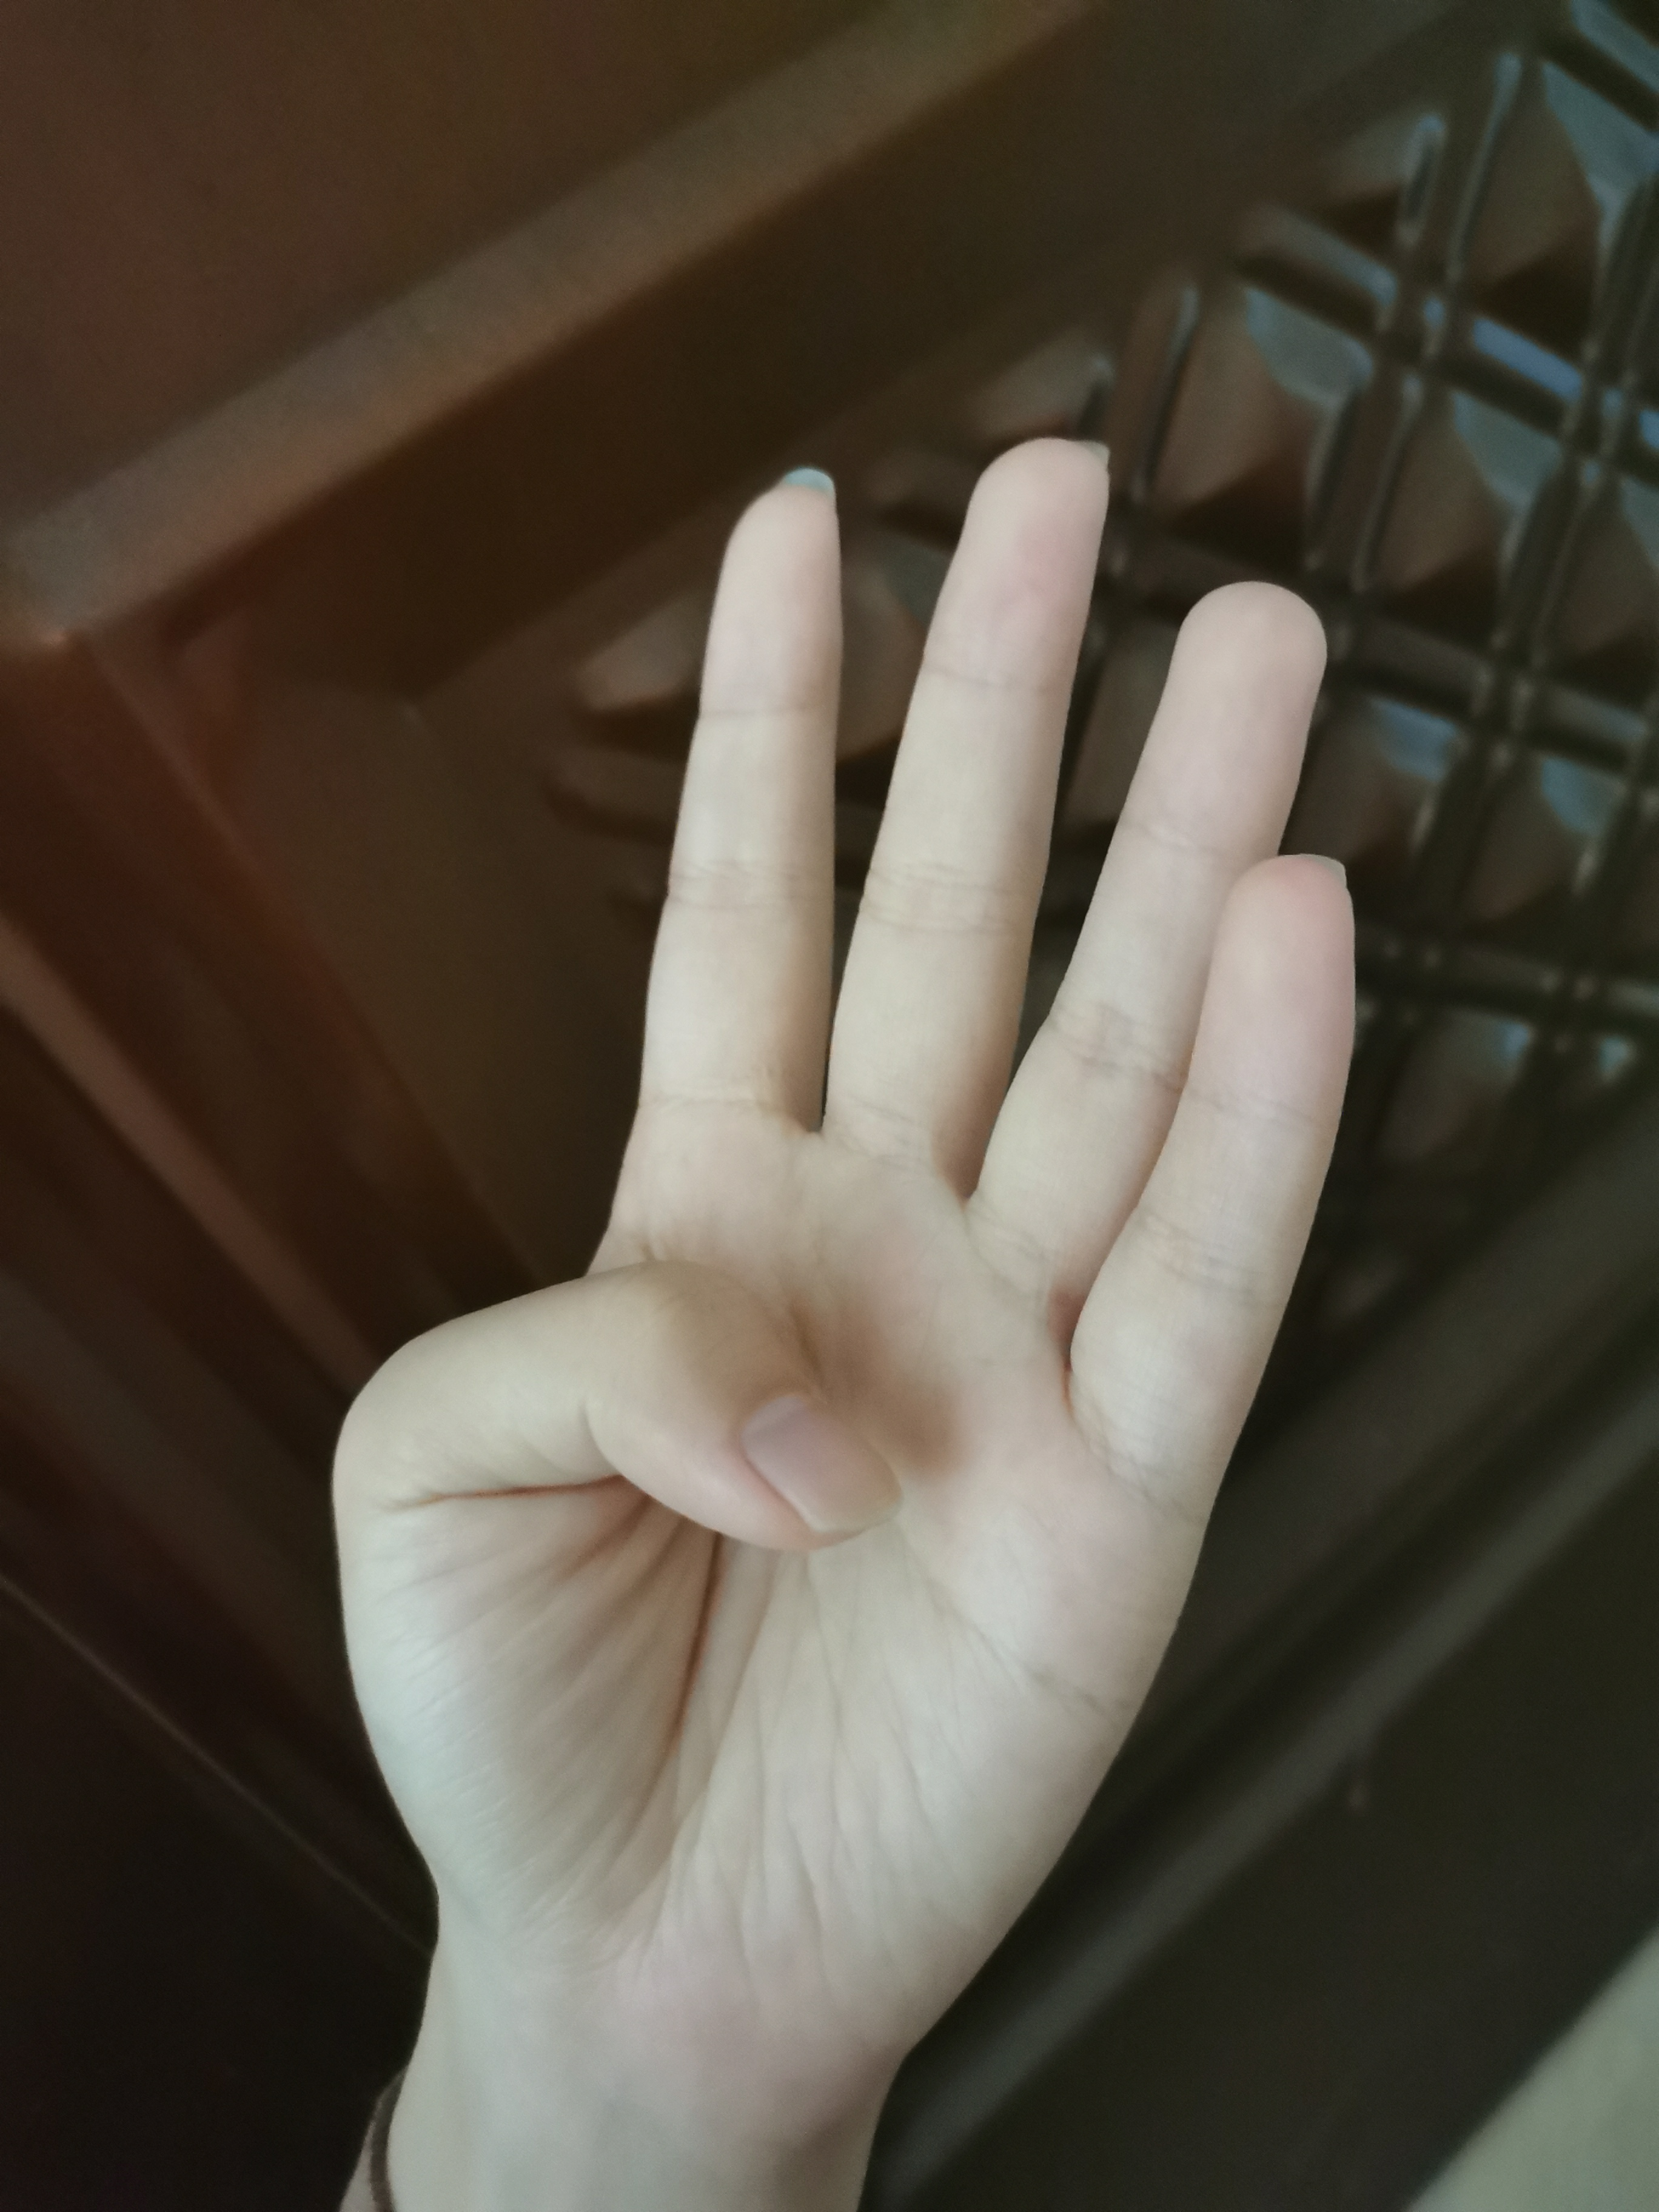right: (324, 425, 1373, 1972)
